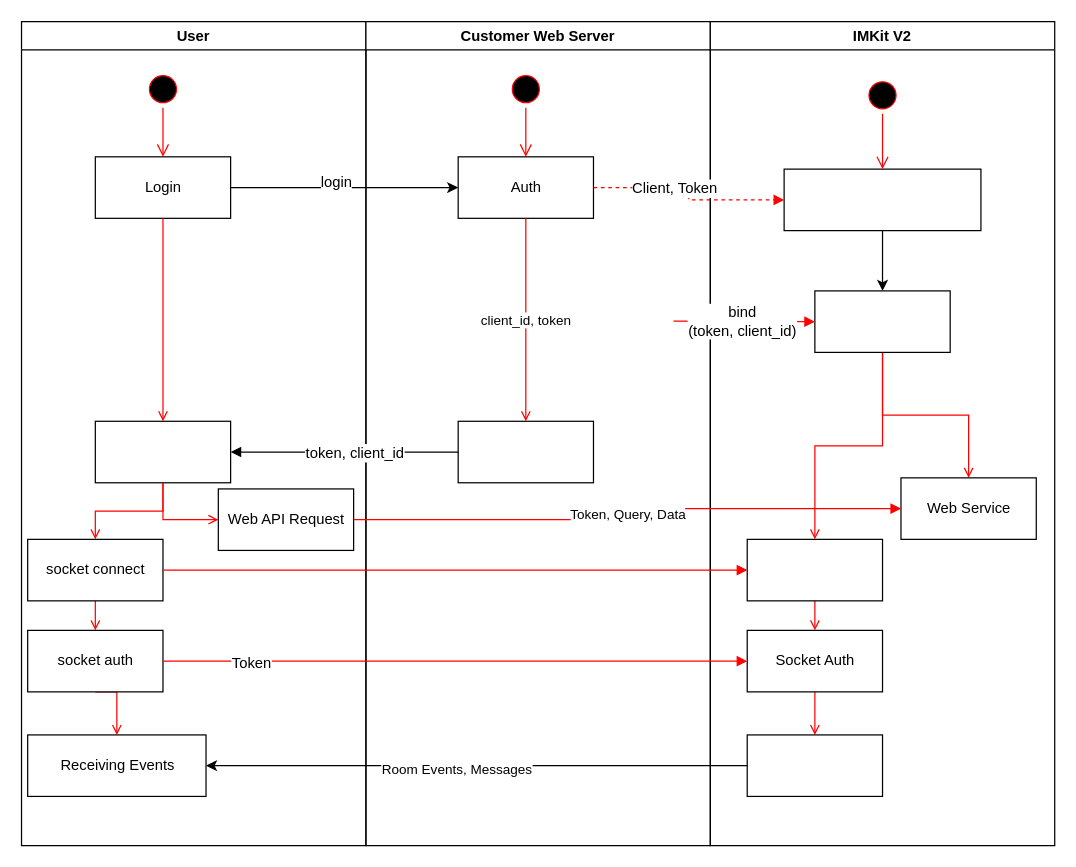
Some shapes in this 1076 by 867 pixel diagram are drawn without their labels. The centre of each missing label's shape, as x and y in pixels:
Accept Connecton: the point at 814,569
Authed: the point at 525,451
Bind token to client: the point at 882,321
Create/Update Client Data: the point at 882,199
Eventing: the point at 814,765
Login Success: the point at 162,451
